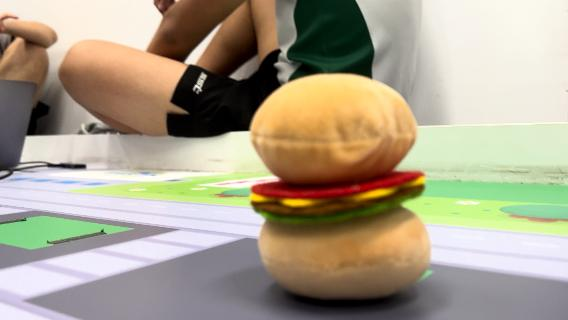burger: (243, 69, 437, 301)
